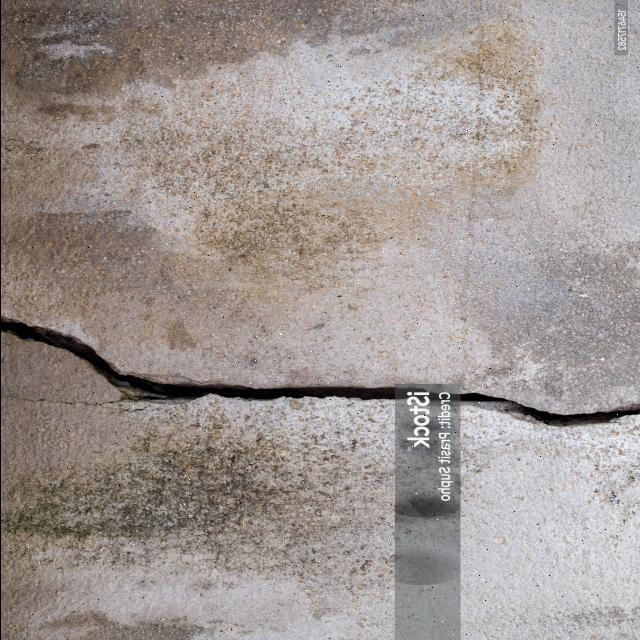crack: (1, 315, 638, 427)
